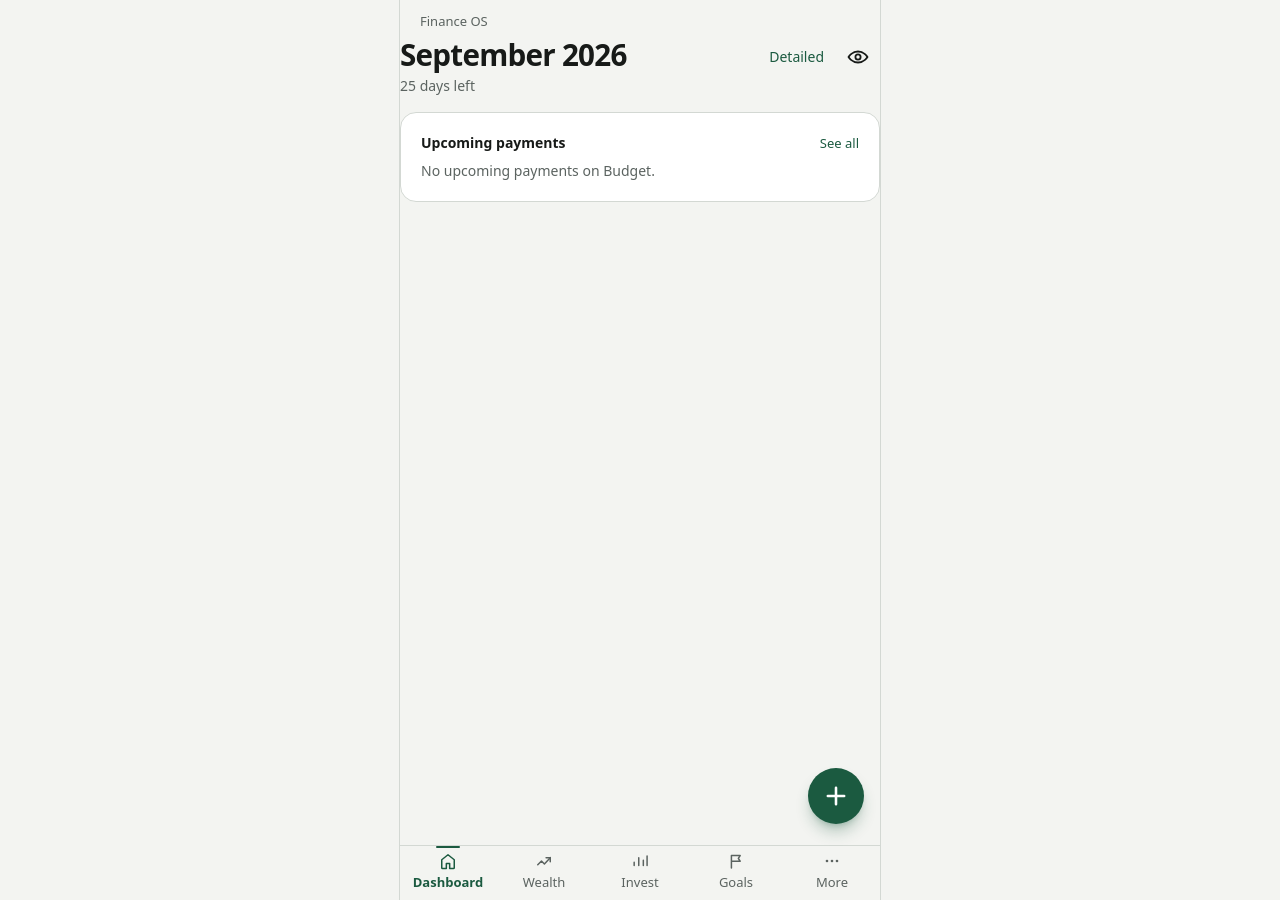
Test: app shell › logs ₹240 eating outside on HDFC CC
Click the button named "Quick Add": (836, 796) top-left (808, 768), bottom-right (864, 824)
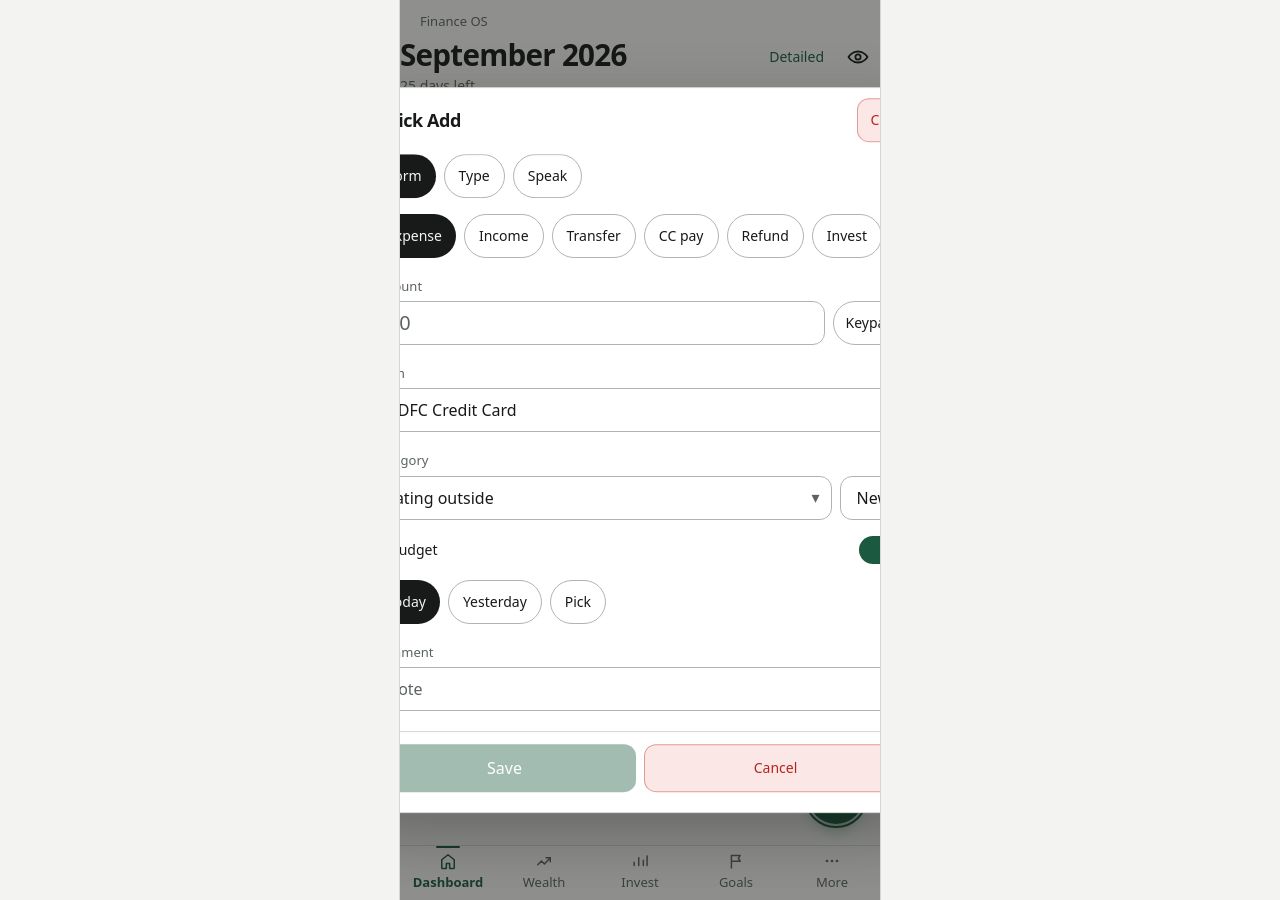
Expected: the dropdown labelled "From" shows "HDFC Credit Card", top-left (400, 388), bottom-right (880, 432)
Expected: the dropdown labelled "Category" shows "Eating outside", top-left (400, 476), bottom-right (832, 520)
In the field named "Amount": (605, 323) top-left (399, 309), bottom-right (812, 337), type "240"
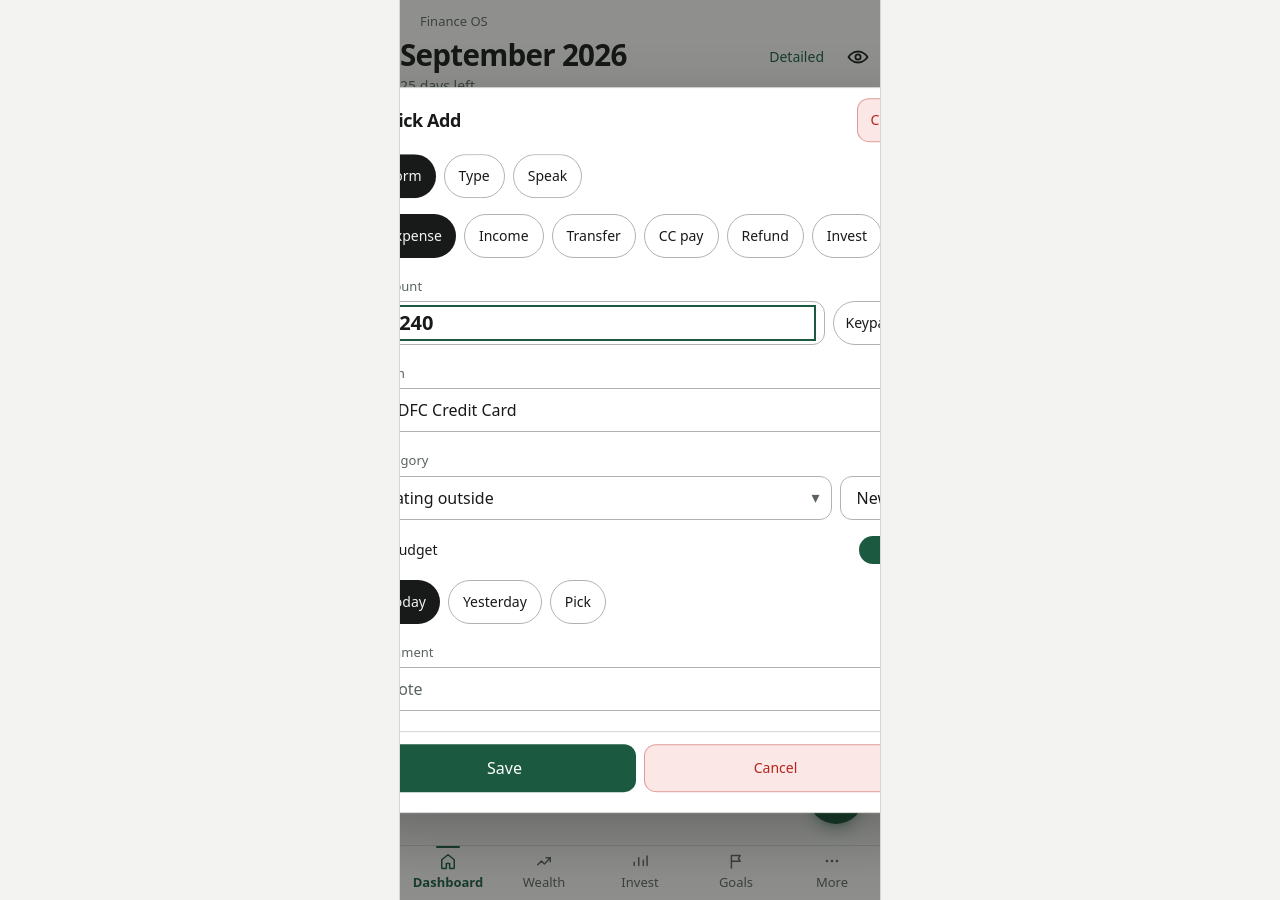
Click the button "Save": (504, 768) top-left (373, 744), bottom-right (636, 792)
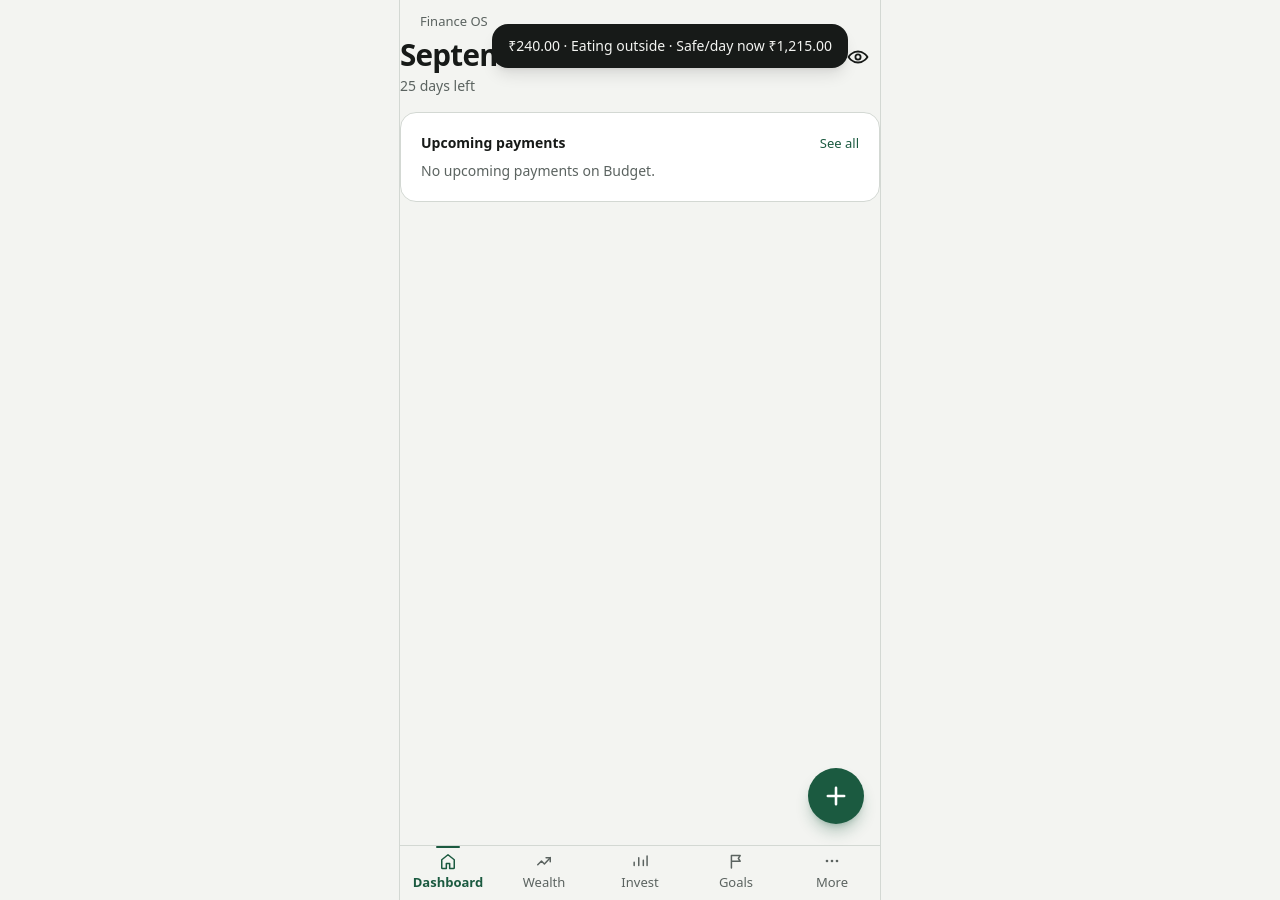
Expected: the message shows "₹240", top-left (508, 36), bottom-right (832, 55)
Expected: the dialog is gone
